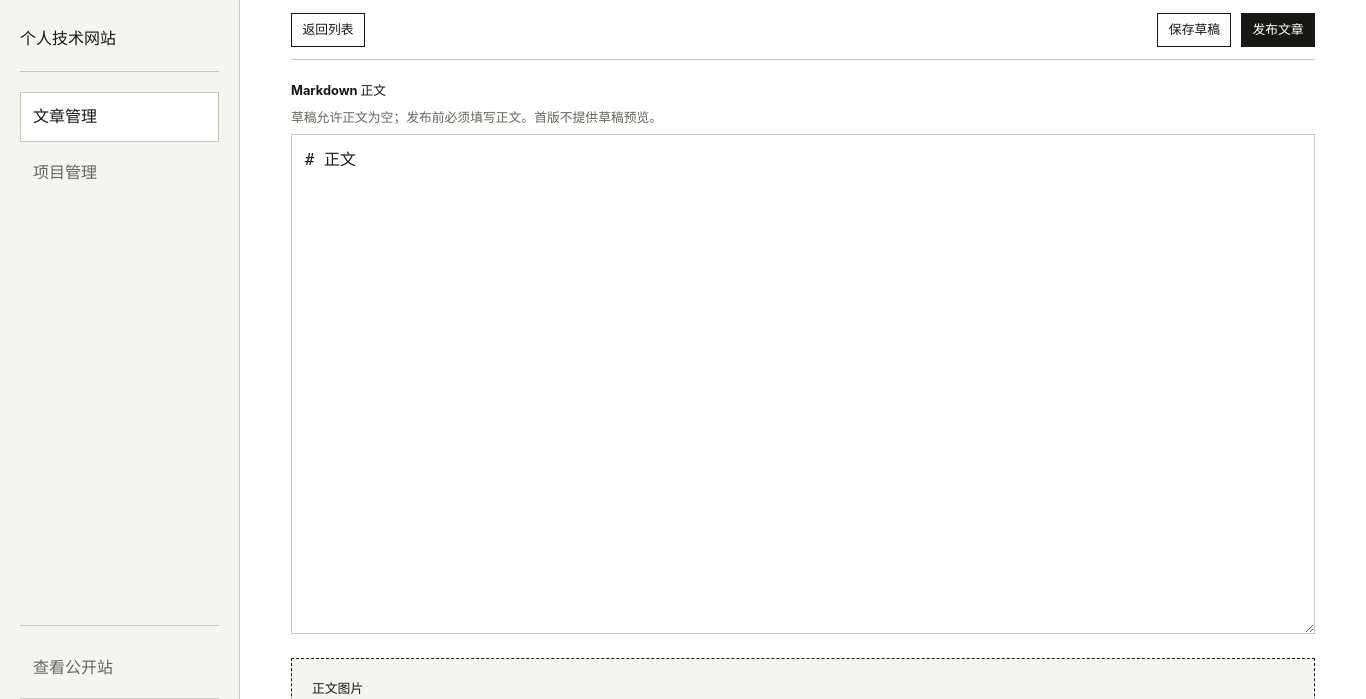
Test case: 管理端路由页面 › 保存返回 session_expired 时打开重新认证且保留正文
(page scrolled)
Replace the text in the text box with id "article-body" with "保留这段未保存正文" at (803, 384), box [291, 134, 1315, 634]
(page scrolled)
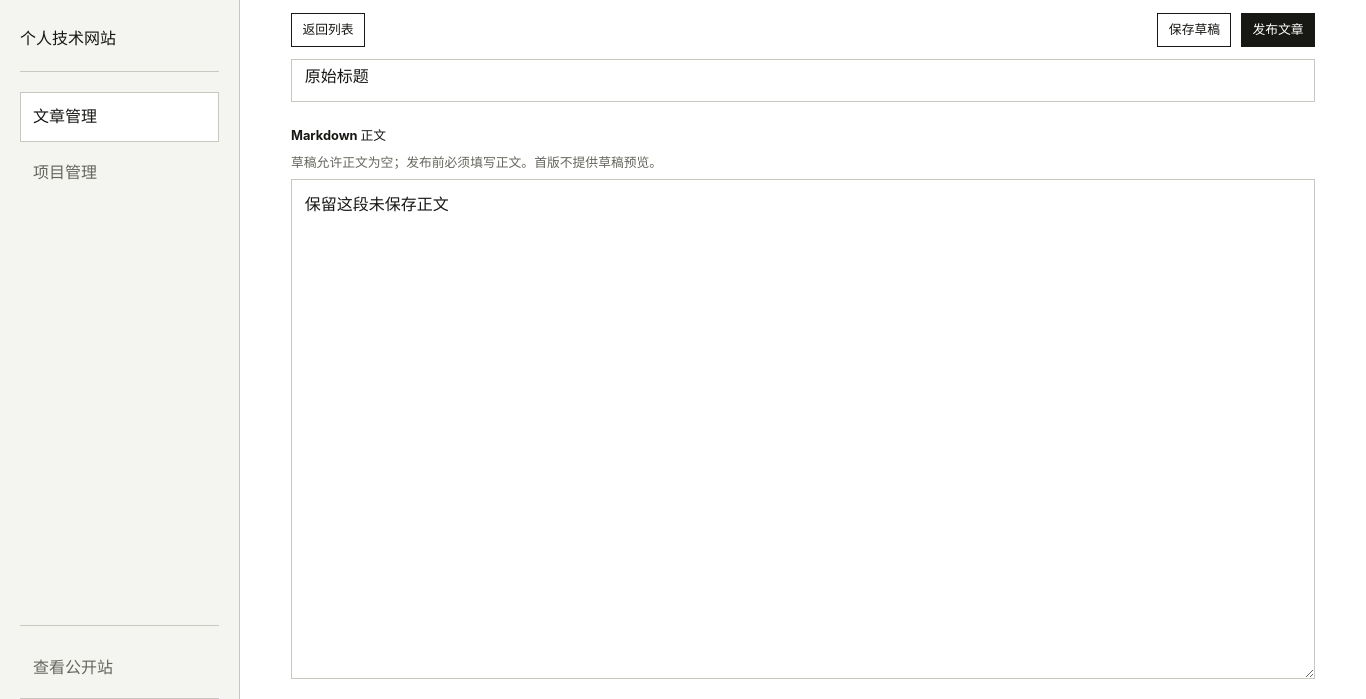
Submit the form
(page scrolled)
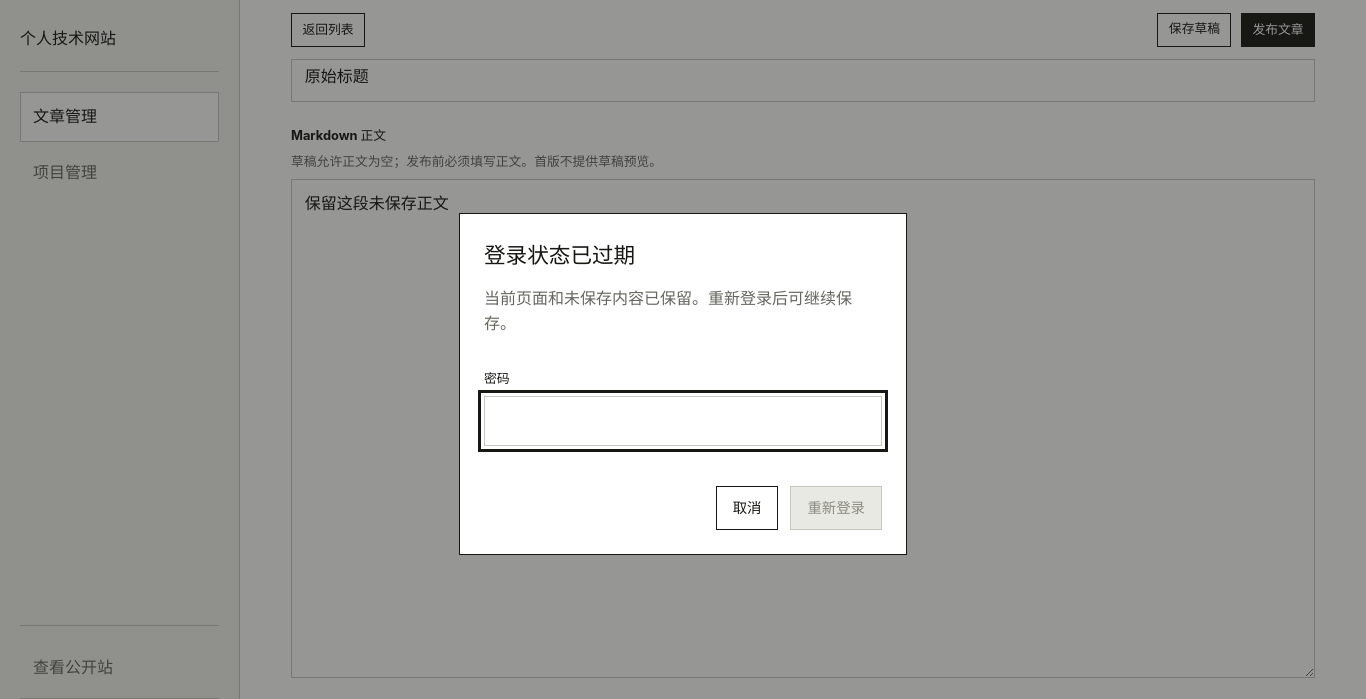
Expected: the dialog shows "登录状态已过期", [484, 242, 635, 268]
